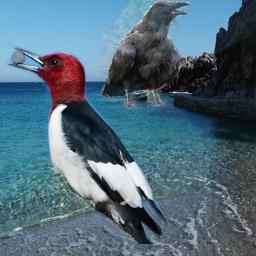Crow: (100, 0, 191, 109)
Woodpecker: (6, 43, 172, 244)
